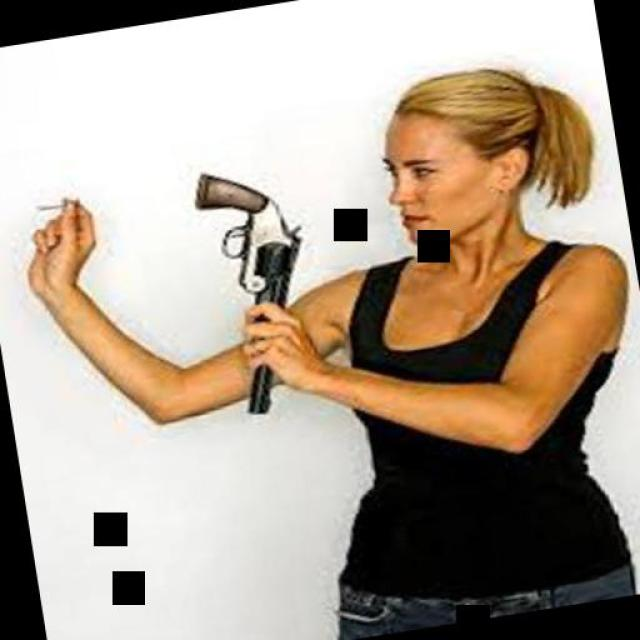gun: (175, 154, 324, 421)
